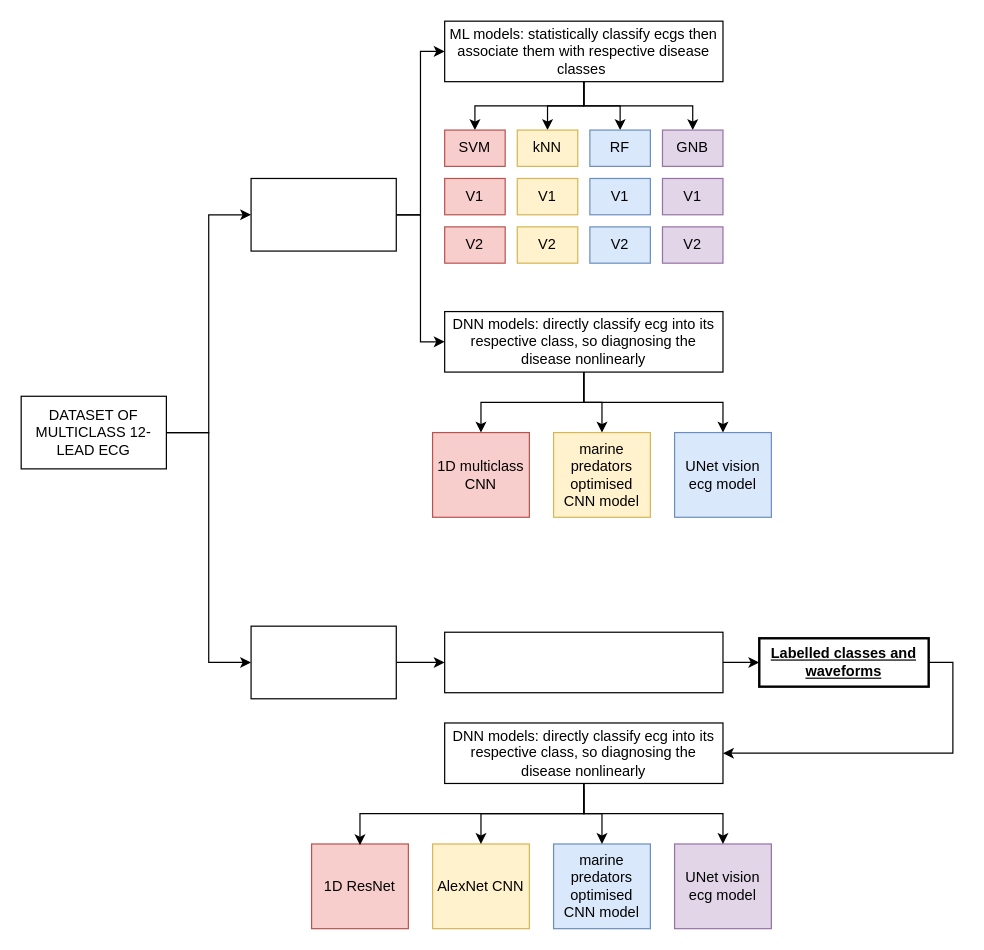
Some shapes in this 984 by 950 pixel diagram are drawn without their labels. The box of each missing label's shape, as (x1, y1, x2, y2) in pixels:
1D VERSION: 1 affecting feature per class: (250, 177, 396, 251)
nD VERSION: several affecting features per class: (250, 625, 396, 699)
Preprocessing and labelling pipeline: using python libraries: (443, 631, 723, 693)
